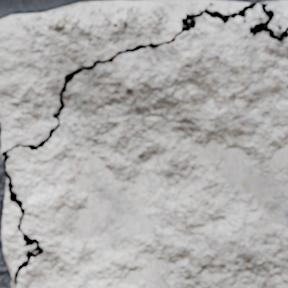brick: (7, 4, 287, 287), (0, 0, 246, 150), (2, 188, 33, 276), (267, 0, 287, 32)
crack: (0, 1, 287, 285)
